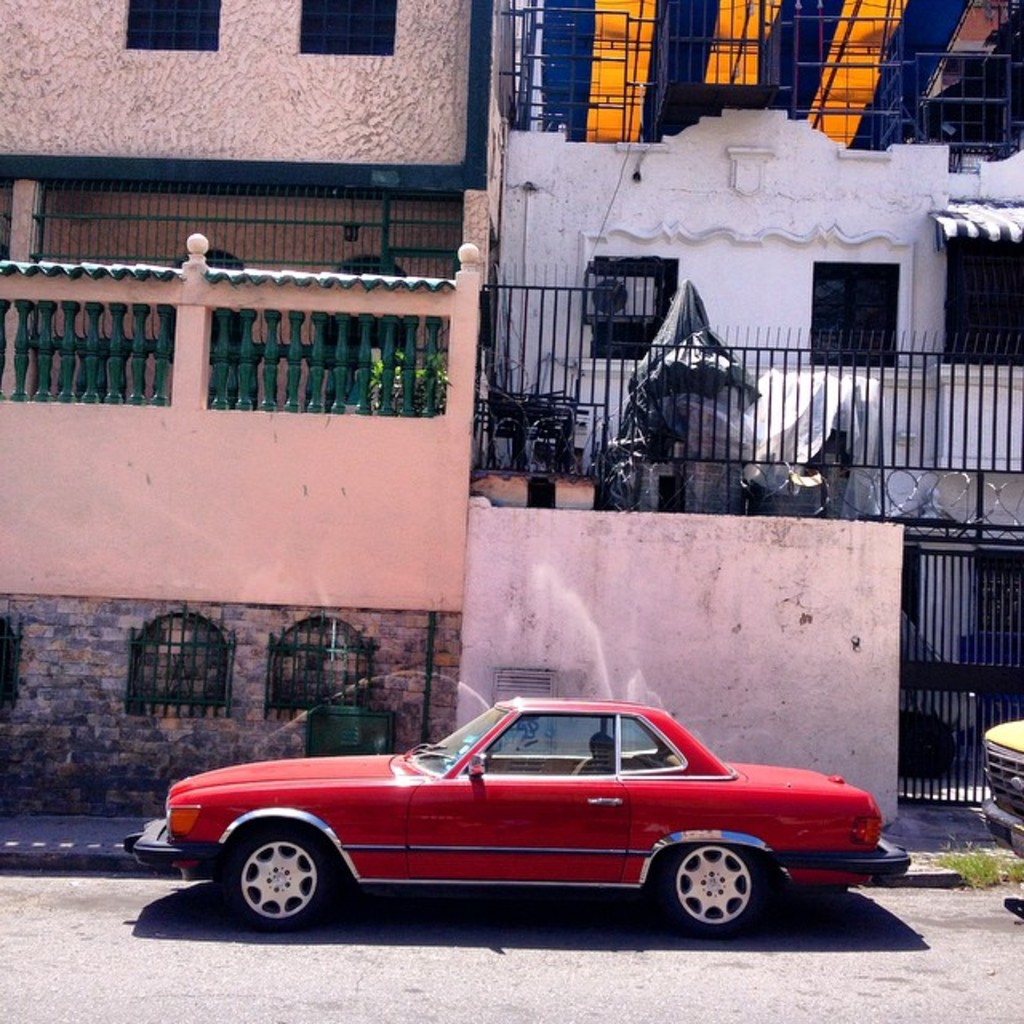Car: (115, 692, 908, 935), (976, 713, 1022, 857)
